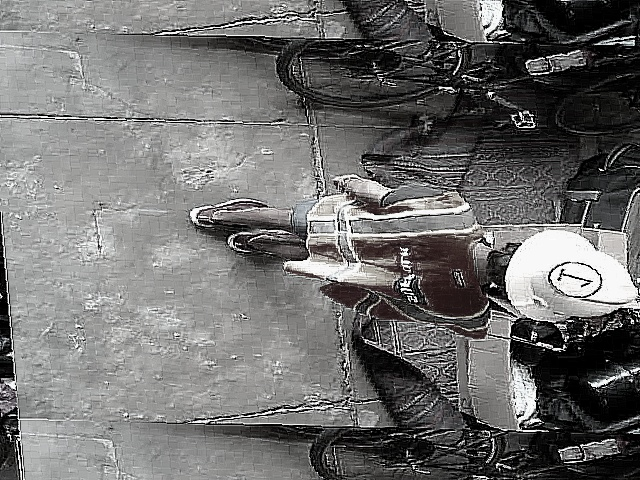one: (548, 261, 605, 298)
